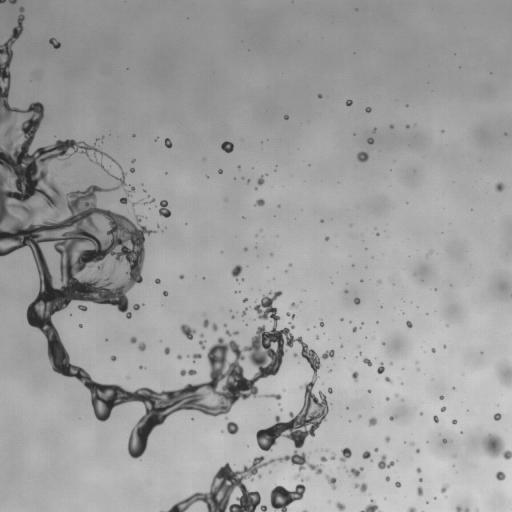droplet: (270, 483, 305, 511), (483, 433, 511, 459), (497, 363, 511, 386), (180, 324, 195, 339), (378, 455, 394, 469), (361, 500, 380, 511), (159, 200, 170, 217), (339, 447, 351, 462), (226, 421, 238, 434), (231, 265, 242, 279), (349, 466, 363, 477), (221, 141, 233, 152), (357, 151, 368, 162), (354, 483, 367, 492), (49, 38, 60, 48), (495, 182, 504, 191), (496, 471, 505, 480), (336, 502, 345, 511), (164, 138, 172, 148), (255, 198, 264, 206), (377, 363, 384, 373), (363, 358, 371, 366), (257, 176, 264, 185), (138, 342, 145, 351), (192, 353, 201, 360), (352, 371, 358, 381), (493, 413, 501, 420), (369, 417, 376, 425), (362, 451, 370, 458), (440, 484, 447, 492), (78, 305, 87, 311), (199, 340, 205, 349), (203, 319, 209, 327), (417, 486, 422, 495), (354, 297, 360, 304), (164, 347, 170, 354), (433, 415, 438, 423), (346, 100, 352, 106), (367, 138, 373, 144), (133, 304, 139, 310), (406, 321, 412, 327), (130, 337, 136, 343), (395, 481, 401, 487), (407, 507, 416, 511), (389, 415, 396, 420), (212, 324, 217, 330), (385, 376, 390, 382), (330, 454, 335, 460), (320, 456, 326, 461), (366, 107, 371, 112), (155, 278, 160, 283), (111, 355, 116, 360), (441, 406, 446, 411), (452, 419, 457, 424), (385, 436, 390, 441), (320, 320, 324, 326), (130, 186, 134, 191), (291, 303, 296, 307), (352, 327, 356, 332), (177, 354, 181, 359), (328, 388, 332, 393), (64, 163, 70, 166), (19, 7, 23, 11), (318, 94, 322, 98), (284, 115, 288, 119), (130, 168, 134, 172), (218, 169, 222, 173), (163, 291, 167, 295), (243, 298, 247, 302), (431, 348, 435, 352), (416, 468, 420, 472), (149, 199, 154, 202), (325, 236, 328, 240), (443, 438, 446, 442), (390, 125, 393, 128), (131, 159, 134, 162), (180, 275, 183, 278), (200, 334, 203, 337), (386, 397, 389, 400), (440, 396, 443, 399), (375, 448, 378, 451), (416, 449, 419, 452), (386, 477, 389, 480), (139, 366, 143, 368), (373, 128, 375, 131), (244, 248, 247, 250), (429, 251, 432, 253), (345, 290, 347, 293), (79, 324, 81, 327), (294, 353, 296, 356), (368, 390, 371, 392), (420, 412, 422, 415), (411, 442, 413, 445), (419, 479, 422, 481), (247, 180, 249, 182), (376, 233, 378, 235), (289, 263, 291, 265), (378, 280, 380, 282), (236, 291, 238, 293), (231, 316, 233, 318), (224, 324, 226, 326), (316, 336, 318, 338), (443, 345, 445, 347)
ligament: (0, 14, 334, 511), (325, 475, 336, 489), (180, 368, 196, 376), (264, 394, 281, 400), (225, 330, 238, 336), (456, 506, 469, 511), (0, 0, 17, 3), (286, 312, 294, 318), (242, 308, 247, 316), (303, 510, 306, 511)
